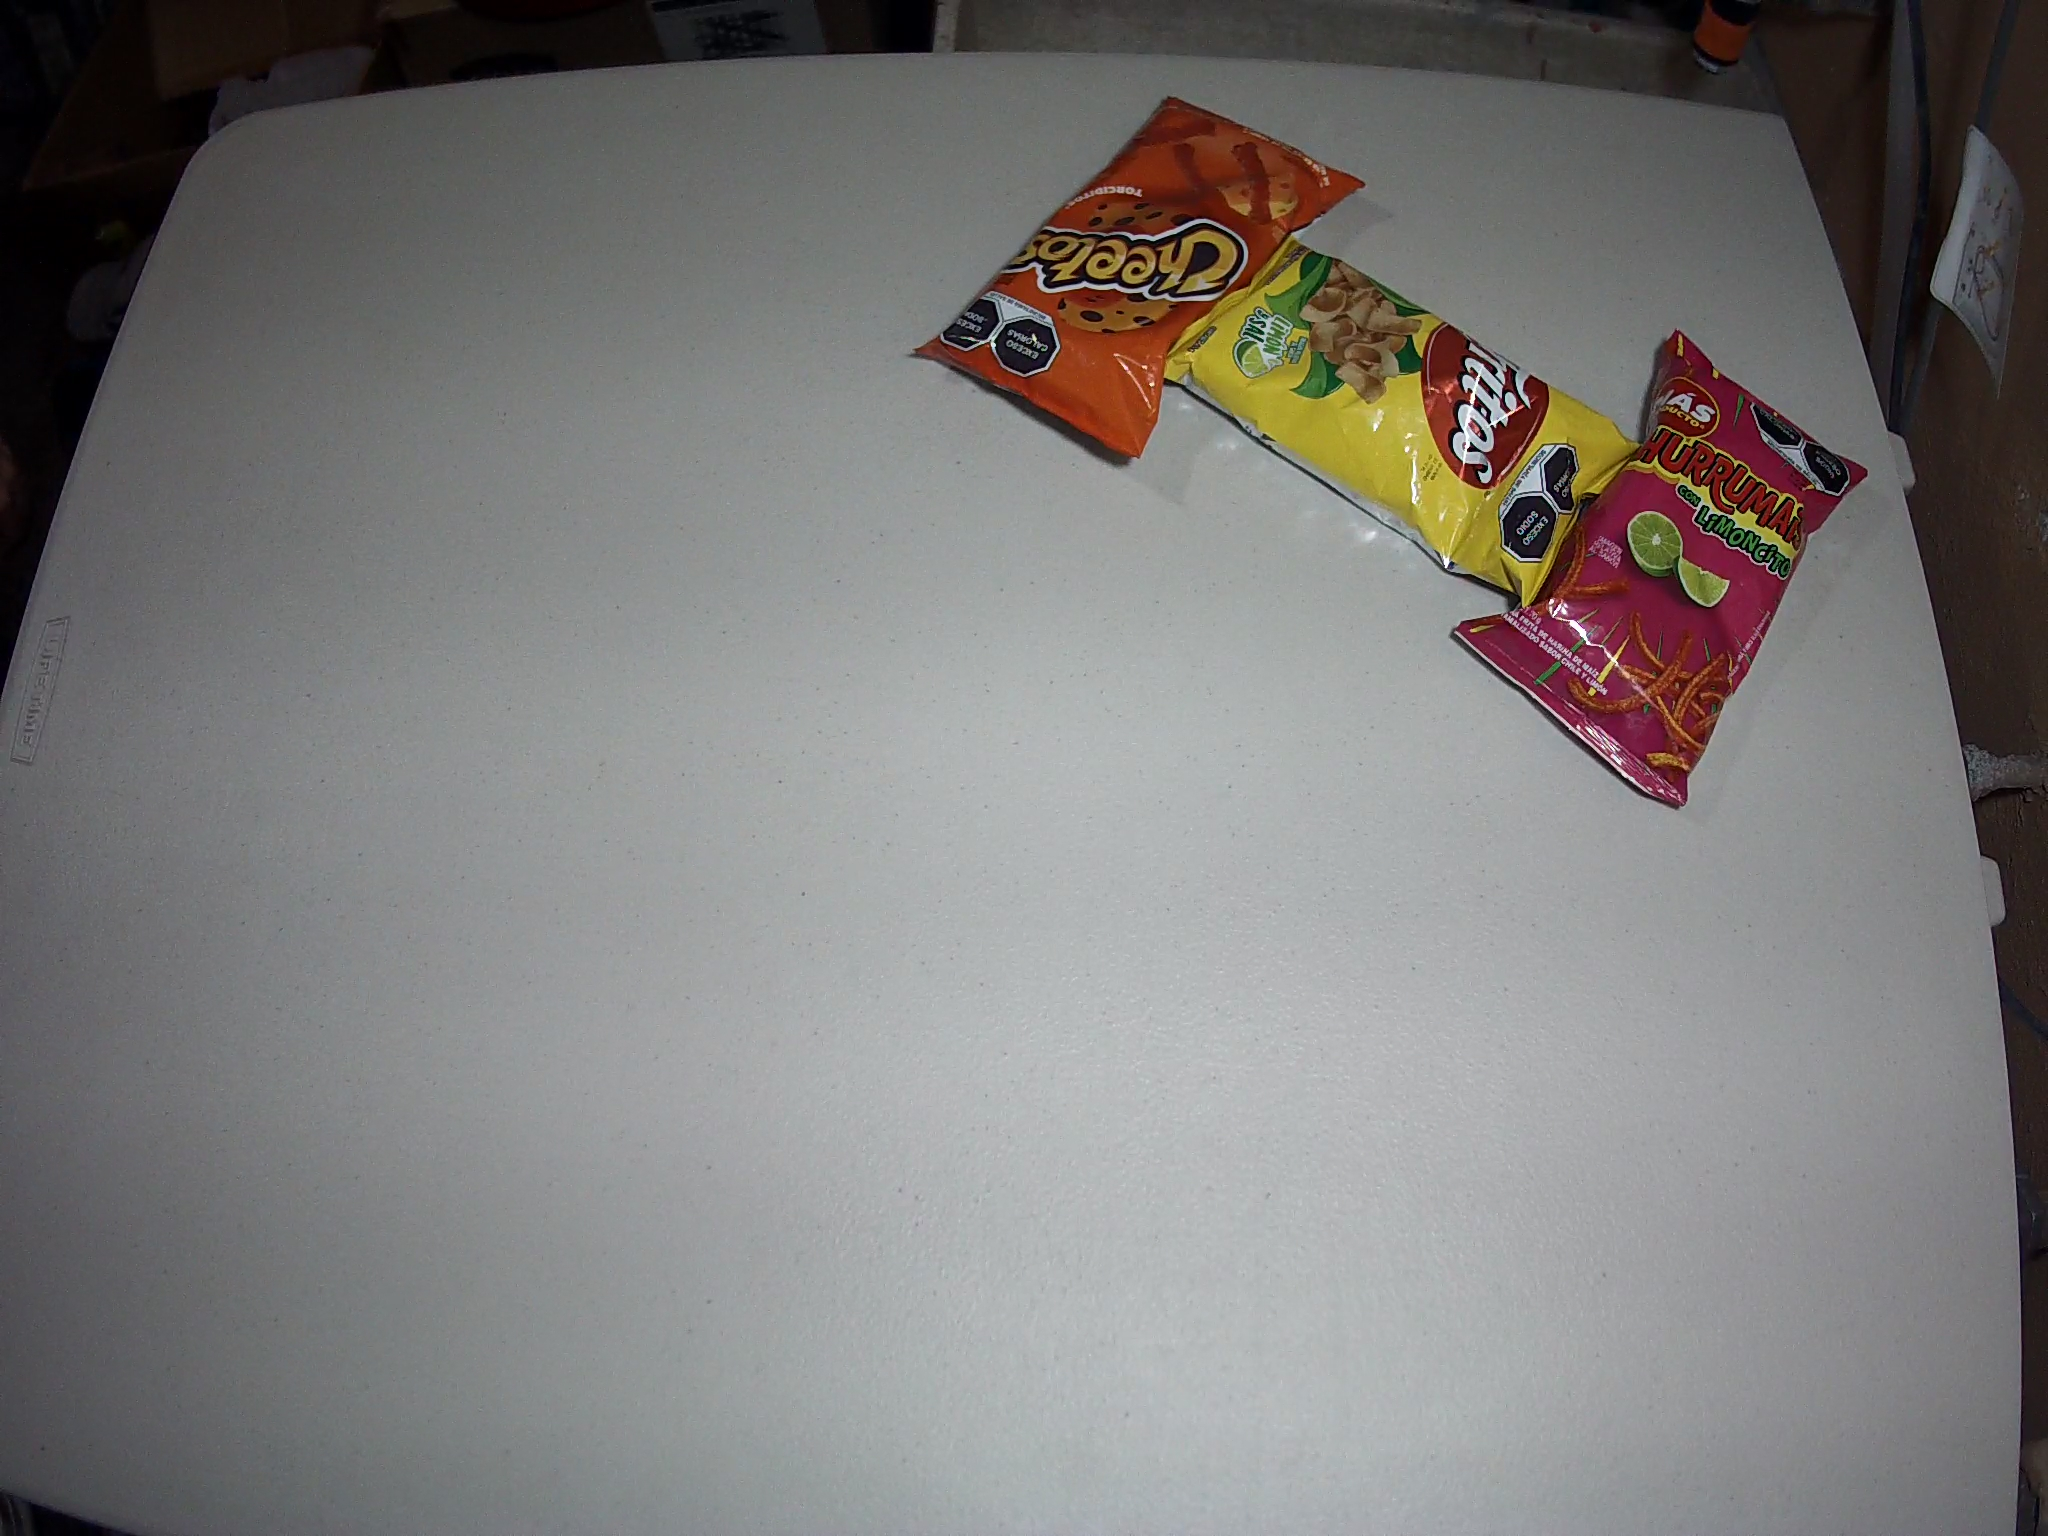CheetosTorciditos_55_F: (913, 97, 1371, 461)
Churrumais_70_F: (1453, 328, 1869, 808)
FritosSalLimon_65_F: (1150, 232, 1651, 608)
